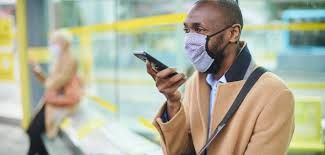with-mask: (169, 4, 252, 77)
